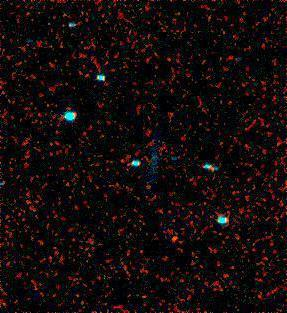star: (161, 224, 191, 254)
